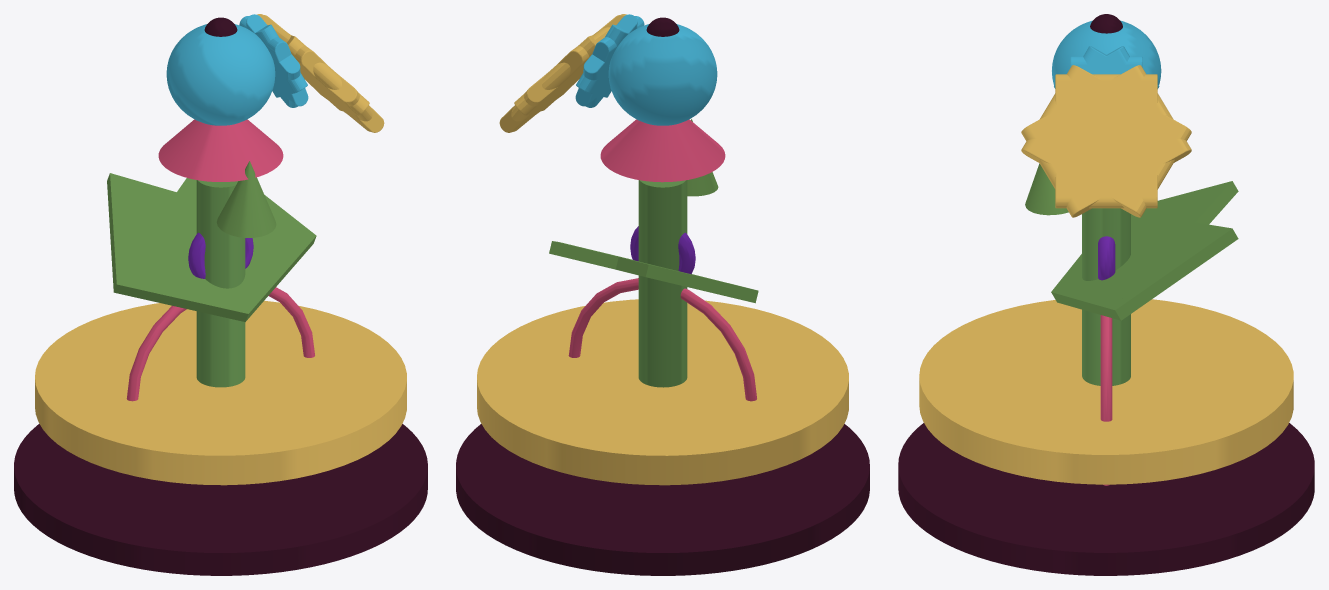
Rendered from 0108_植物图鉴_荷花.glb.
3 views of the same model, side by side, from view 1: azimuth 30°, elevation 25°; view 2: azimuth 150°, elevation 25°; view 3: azimuth 270°, elevation 25° (orthographic).
Visible parts, largest first — view 1: card_0108; view 2: card_0108; view 3: card_0108.
Boxes of the visible parts, bbox=[...] form: card_0108: bbox=[14, 14, 427, 575]; card_0108: bbox=[456, 14, 869, 575]; card_0108: bbox=[898, 14, 1314, 575].
Size of the model in its own units: 0.7993 by 1 by 0.7992.
